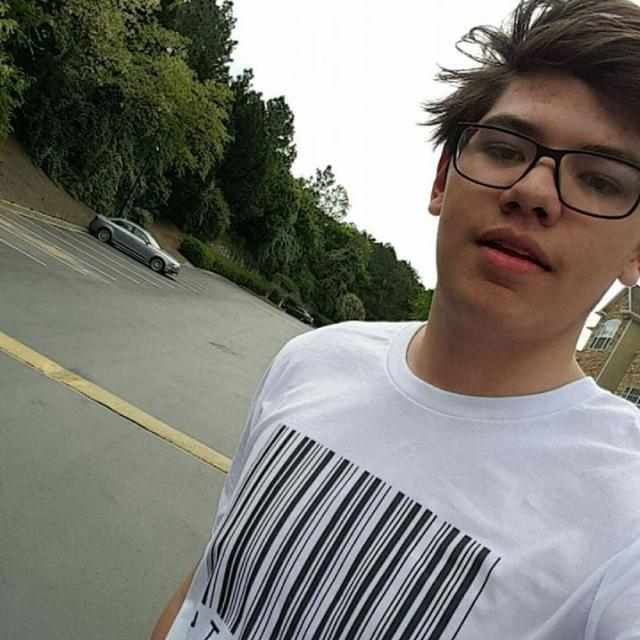adult: (148, 7, 640, 640)
